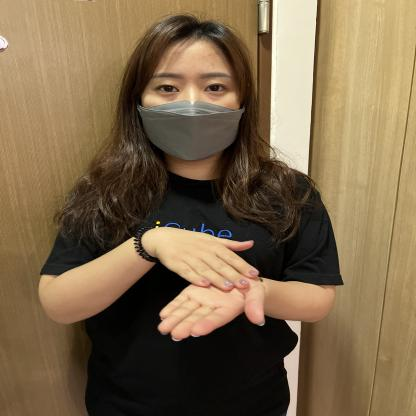Love: (61, 229, 405, 374)
